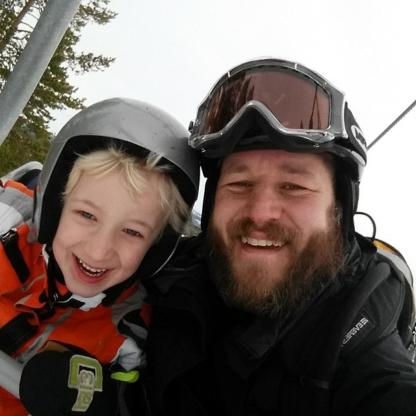Helmet: (188, 55, 375, 291), (30, 96, 196, 312)
